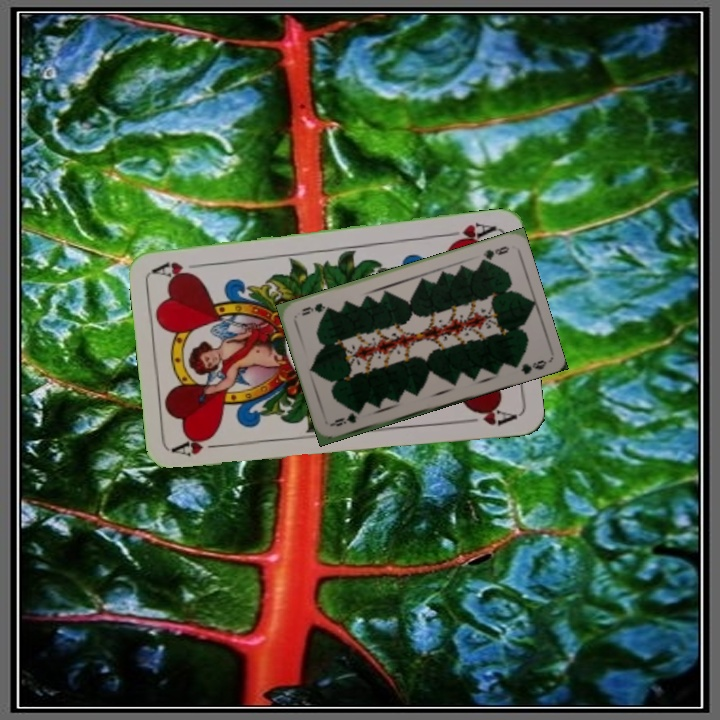G9: (475, 242, 512, 265), (328, 408, 364, 429)
HA: (440, 219, 499, 248), (170, 431, 230, 459)
